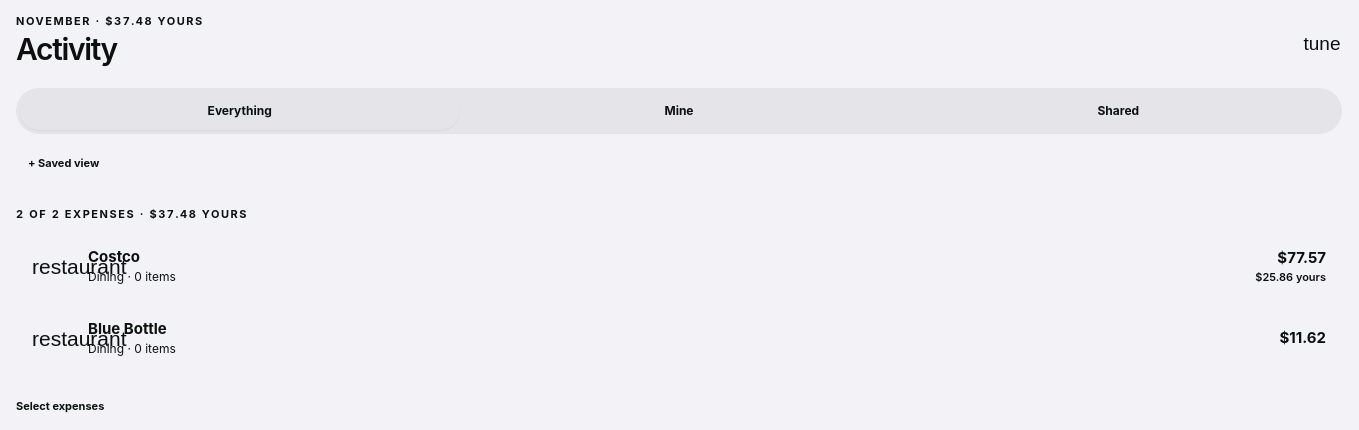
Test: Activity › splits Mine from Shared by whether a receipt is split
Click the radio button labelled "shared" at (1118, 110), box [899,92,1338,130]
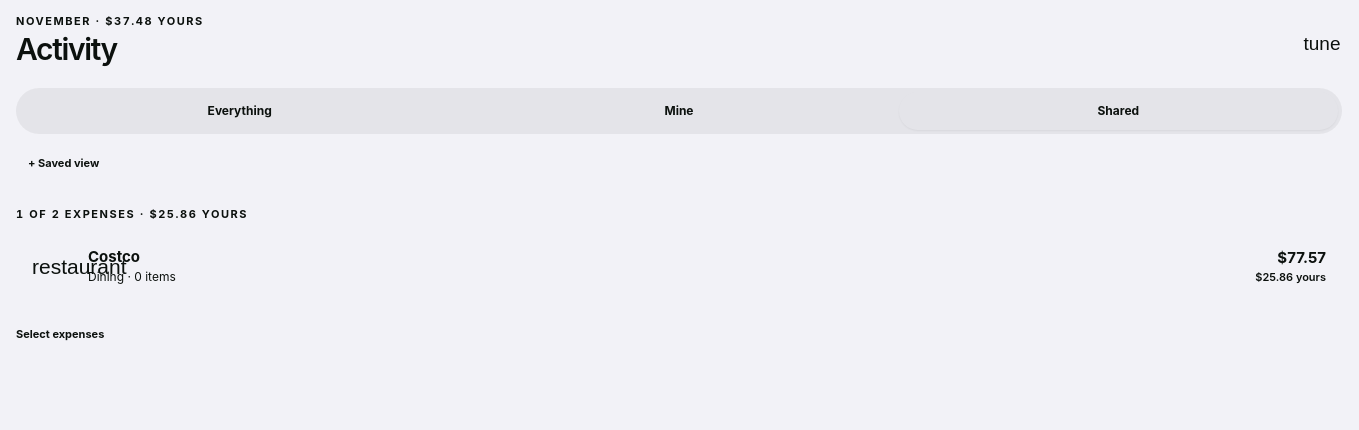
expect the text "Costco" is shown: met, box [88,247,140,266]
expect the button "Blue Bottle" is gone: met
Click the radio button labelled "mine" at (679, 110), box [459,92,899,130]
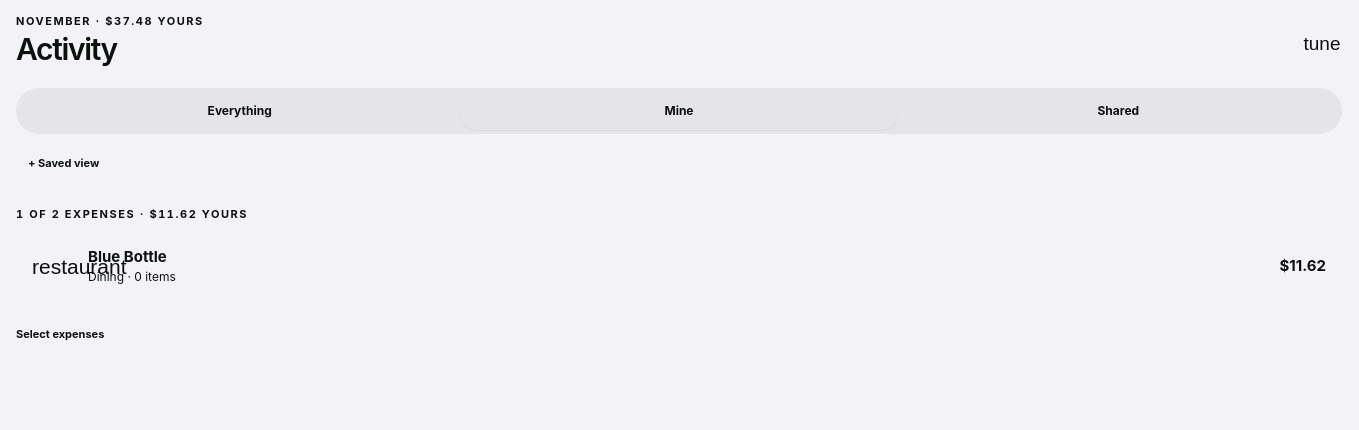
expect the button "Costco" is gone: met
